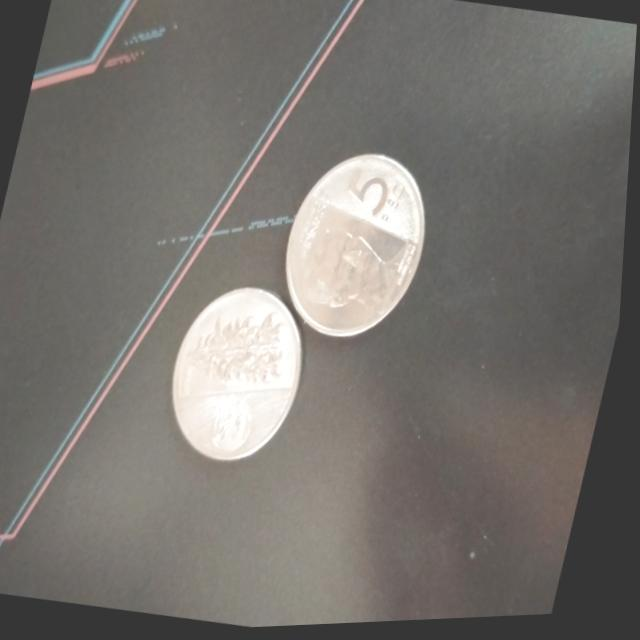5_New_Back: (176, 284, 305, 403)
5_New_Front: (339, 158, 419, 241)
